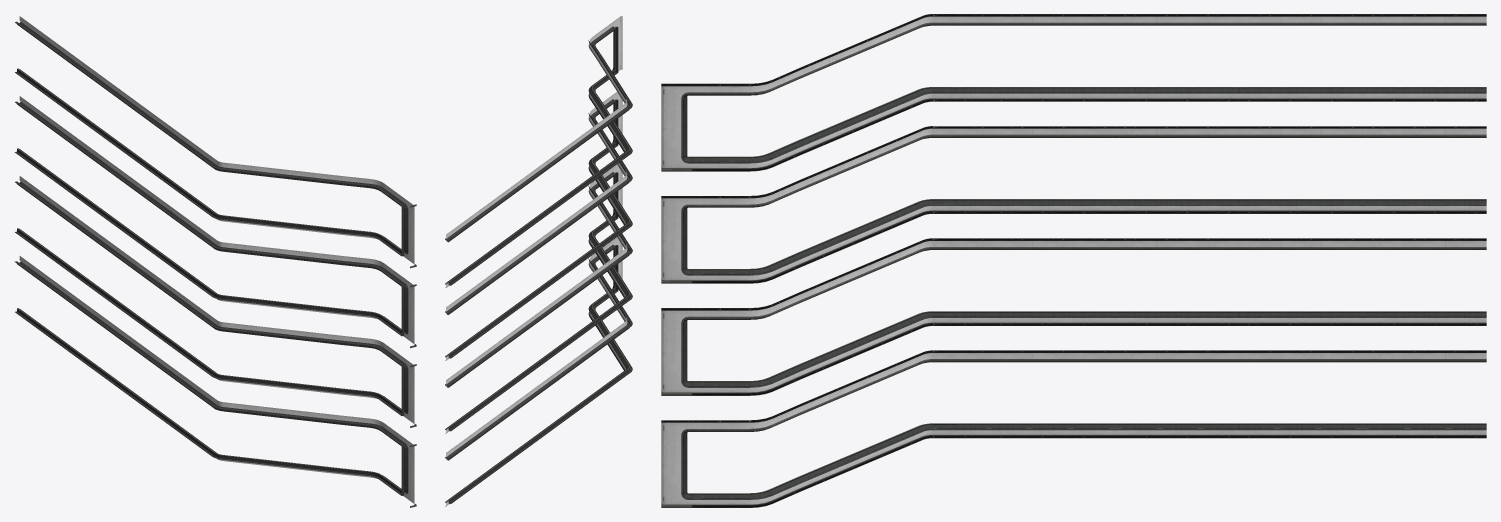
The model's file is RearlFAC_Win04.FBX.
The picture shows the model from 3 angles, left to right: view 1: azimuth 30°, elevation 25°; view 2: azimuth 150°, elevation 25°; view 3: azimuth 270°, elevation 25°; orthographic projection. The views are drawn at different scales.
Parts seen in each view (by area): view 1: RearlFAC_Win04; view 2: RearlFAC_Win04; view 3: RearlFAC_Win04.
Part boxes in pixels (x1,y1,x2,y2): RearlFAC_Win04: (14, 16, 416, 507); RearlFAC_Win04: (445, 16, 632, 506); RearlFAC_Win04: (661, 14, 1486, 507).
Size of the model in its own units: 8.5 by 22.7 by 40.02.
